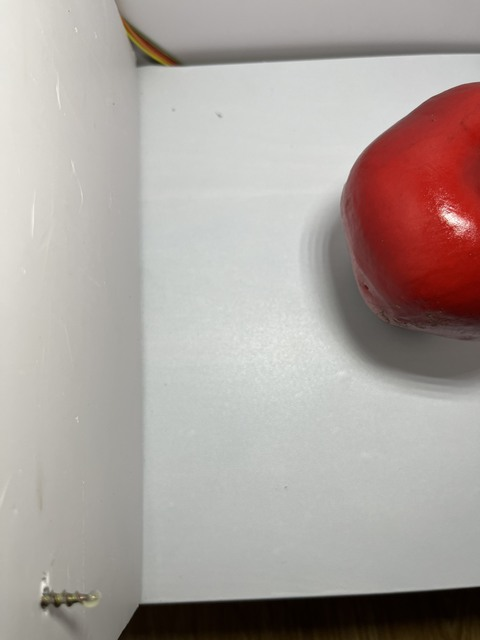Tao: (333, 68, 480, 349)
